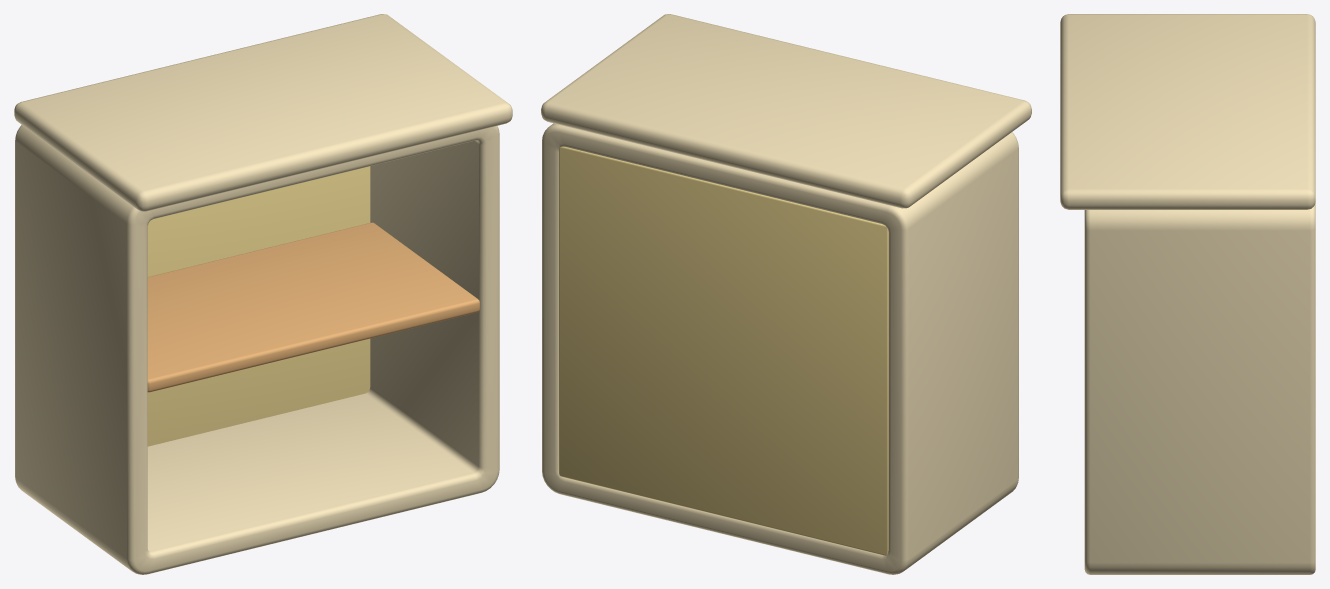
Rendered from nicho_parede_creme.glb.
3 views of the same model, side by side, from view 1: azimuth 30°, elevation 25°; view 2: azimuth 150°, elevation 25°; view 3: azimuth 270°, elevation 25° (orthographic).
Parts seen in each view (by area): view 1: nicho_parede_creme; view 2: nicho_parede_creme; view 3: nicho_parede_creme.
Boxes of the visible parts, x1=… form: nicho_parede_creme: x1=14, y1=14, x2=512, y2=574; nicho_parede_creme: x1=541, y1=14, x2=1031, y2=574; nicho_parede_creme: x1=1060, y1=14, x2=1315, y2=574.
Size of the model in its own units: 0.598 by 0.6 by 0.356.
1 material, 1 textured.
